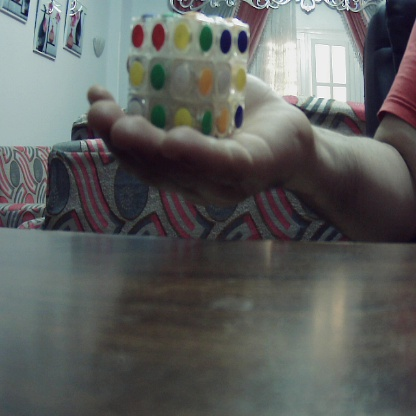Rubix Cube: (130, 14, 242, 133)
